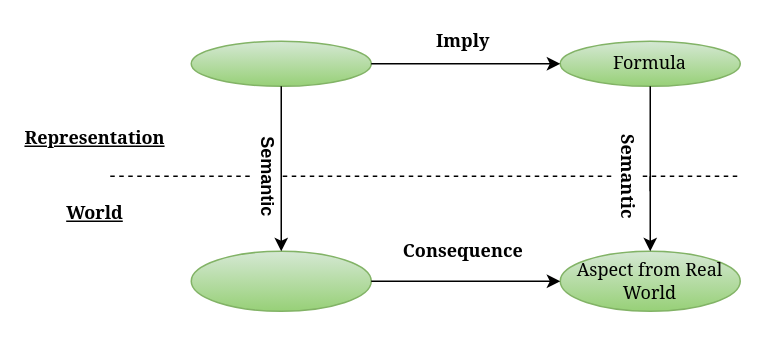
The diagram is 768 pixels wide and 338 high, and some of its shapes have lost their labels. The centre of each missing label's shape, as x and y in pixels:
"Aspects from Real World" belongs at point 280,280.
"Formulas" belongs at point 280,63.
